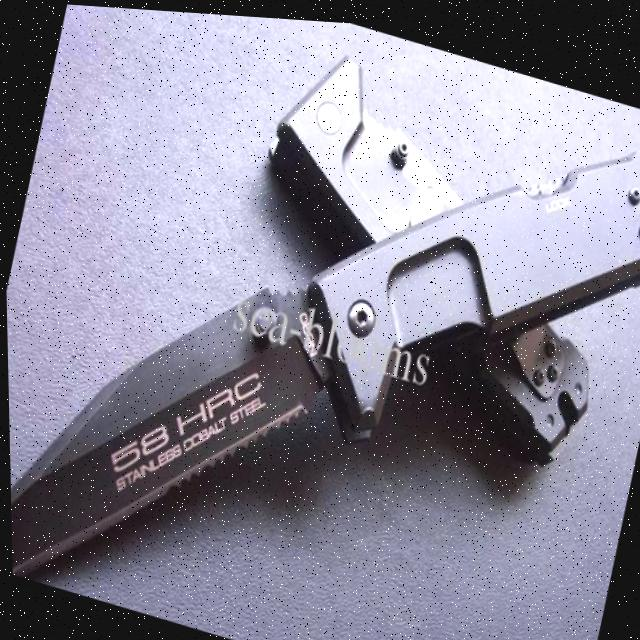knife: (0, 0, 640, 640), (219, 28, 640, 463)
